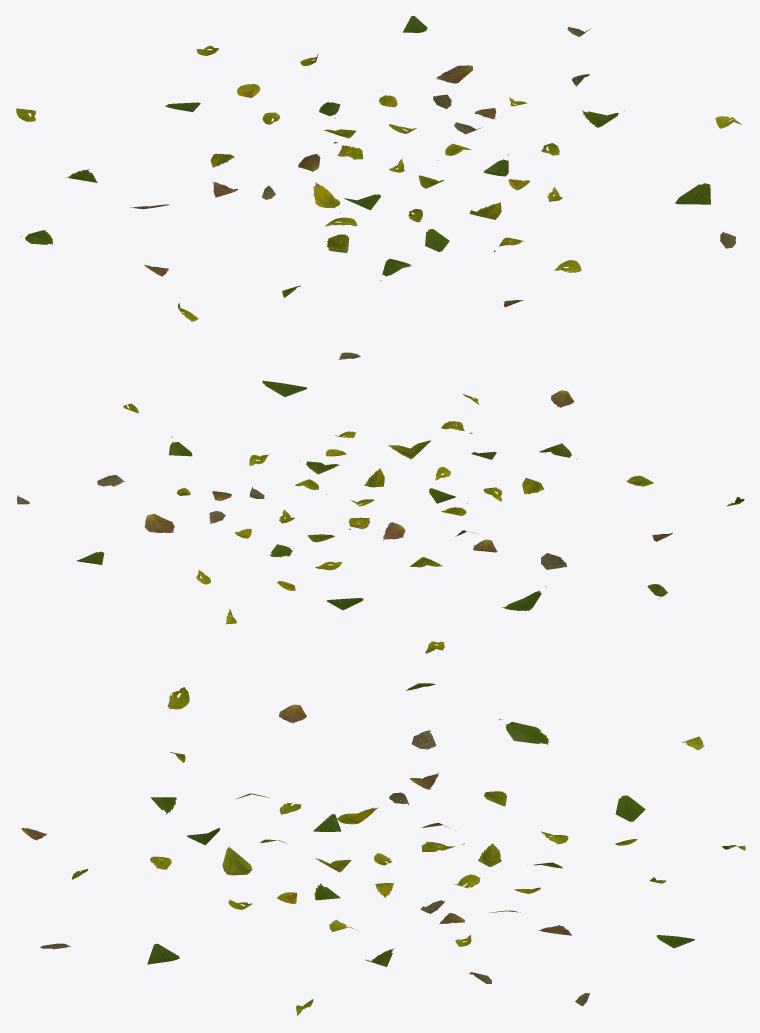
Rendered from Decal_Leaf_Ground_x1.fbx.
3 views of the same model, one above another, from view 1: azimuth 30°, elevation 25°; view 2: azimuth 150°, elevation 25°; view 3: azimuth 270°, elevation 25° (orthographic). The views are drawn at different scales.
Parts seen in each view (by area): view 1: Decal_Leaf_Ground_x1; view 2: Decal_Leaf_Ground_x1; view 3: Decal_Leaf_Ground_x1.
Part boxes in pixels (x1,y1,x2,y2): Decal_Leaf_Ground_x1: (16,16,741,321); Decal_Leaf_Ground_x1: (17,352,744,653); Decal_Leaf_Ground_x1: (21,683,745,1015).
Size of the model in its own units: 74.91 by 1.77 by 69.18.
